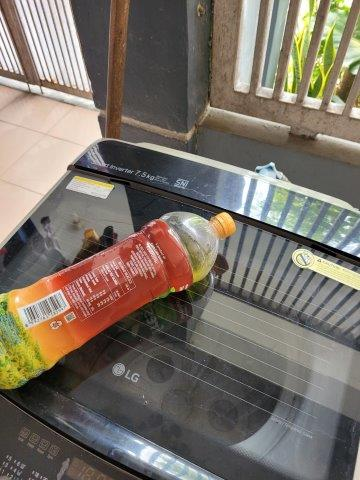botolplastik: (1, 211, 232, 390)
